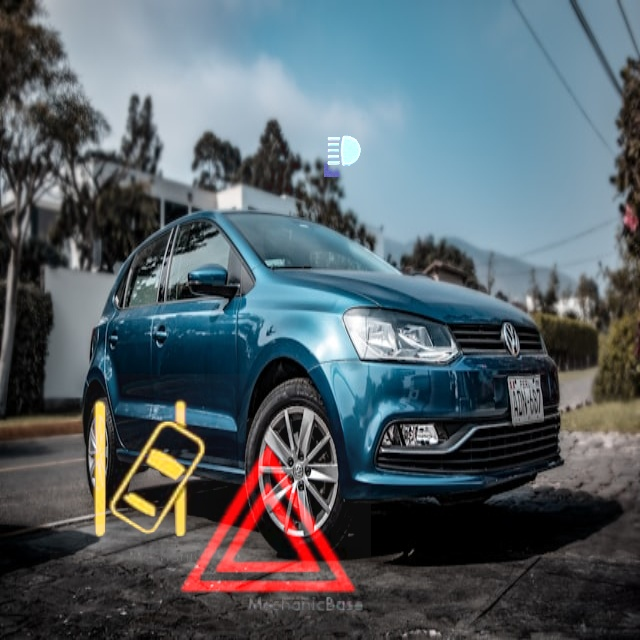symbol: (168, 418, 371, 621), (50, 374, 248, 572), (265, 77, 424, 236)
